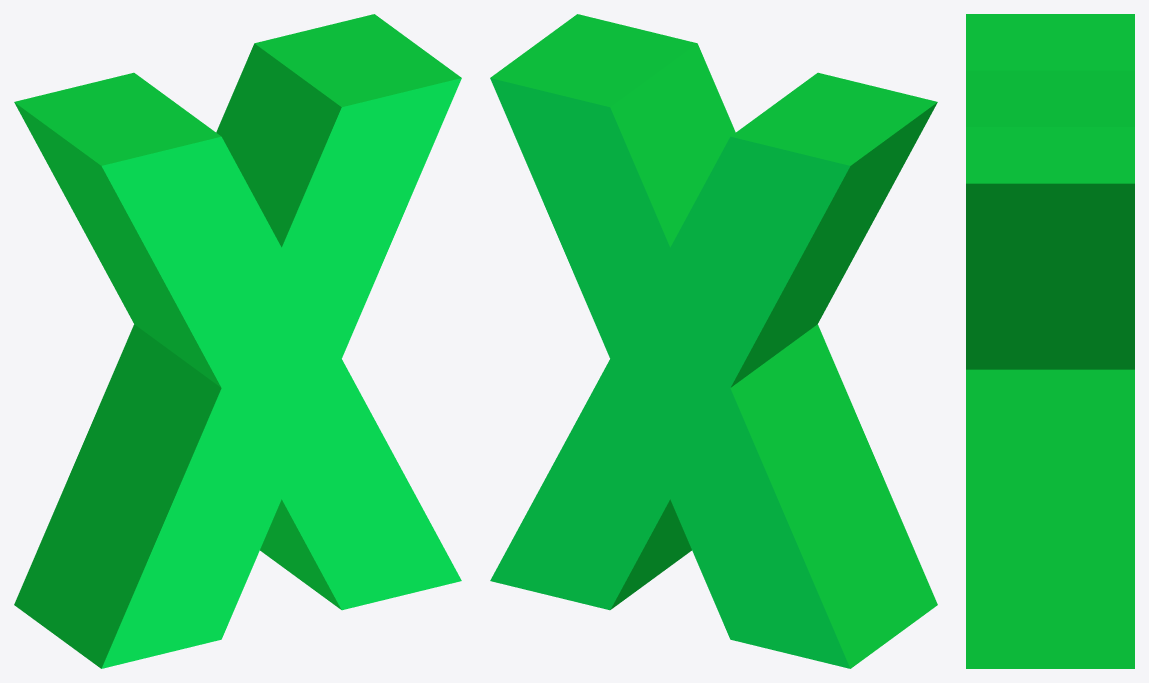
File: X_DeltaBlock_Green.glb
3 renders of one model, left to right at view 1: azimuth 30°, elevation 25°; view 2: azimuth 150°, elevation 25°; view 3: azimuth 270°, elevation 25°, orthographic. The views are drawn at different scales.
Visible parts, largest first — view 1: x_DeltaBlock_Green; view 2: x_DeltaBlock_Green; view 3: x_DeltaBlock_Green.
Boxes of the visible parts, left/top/right/bottom form: x_DeltaBlock_Green: left=14, top=14, right=461, bottom=668; x_DeltaBlock_Green: left=490, top=14, right=937, bottom=668; x_DeltaBlock_Green: left=966, top=14, right=1134, bottom=668.
Size of what is drawn, in the model's own units: 0.1071 by 0.1429 by 0.045.
2 materials, 2 textured.
